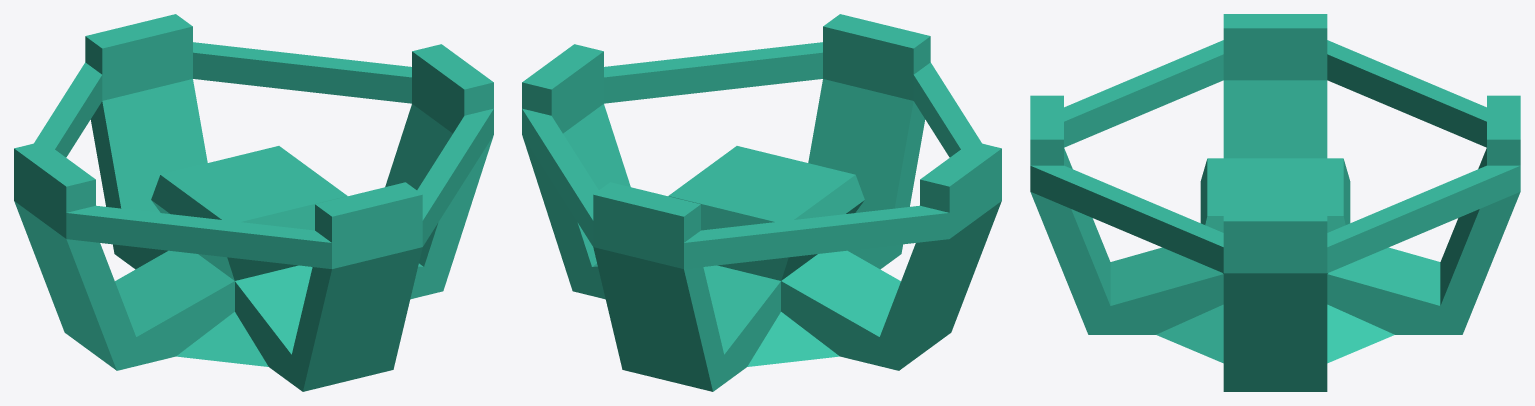
Rendered from fireBasket.obj.
3 renders of one model, left to right at view 1: azimuth 30°, elevation 25°; view 2: azimuth 150°, elevation 25°; view 3: azimuth 270°, elevation 25°, orthographic.
Visible parts, largest first — view 1: fireBasket; view 2: fireBasket; view 3: fireBasket.
Part boxes in pixels (box(x1,y1,x2,y2)): fireBasket: box(14, 14, 493, 391); fireBasket: box(522, 14, 1001, 391); fireBasket: box(1030, 14, 1520, 391).
Bounding box in the file's own units: 0.2731 × 0.12 × 0.2731.
